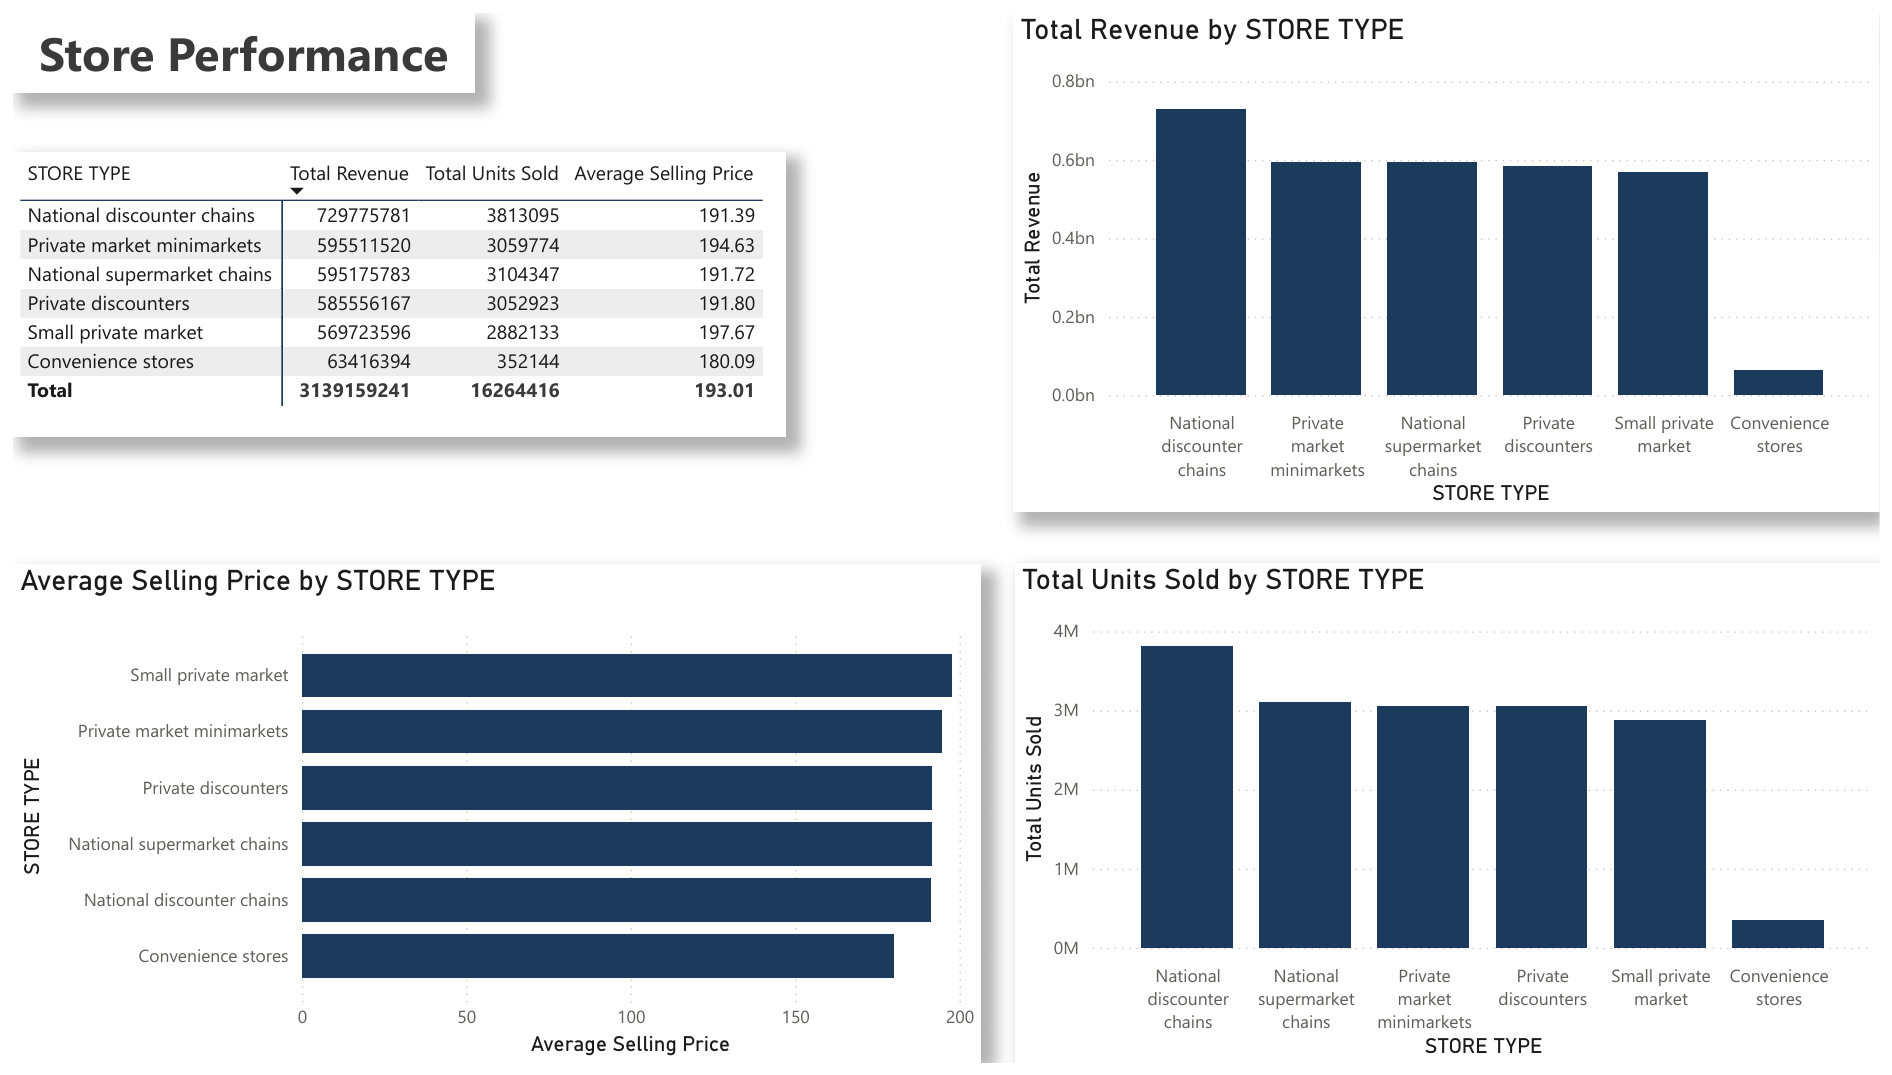

This screenshot's page, from the dashboard's own definition file:
{"tool":"powerbi","page":{"name":"Store Performance","canvas":[1280,720],"ordinal":4},"visuals":[{"type":"clusteredColumnChart","fields":{"Category":["dim_store.STORE TYPE"],"Y":["MeasuresX.Total Revenue"]},"box":[686,0,594,342],"z":0},{"type":"clusteredColumnChart","fields":{"Category":["dim_store.STORE TYPE"],"Y":["MeasuresX.Total Units Sold"]},"box":[686.7,376.7,594,344],"z":1000},{"type":"clusteredBarChart","fields":{"Category":["dim_store.STORE TYPE"],"Y":["MeasuresX.Average Selling Price"]},"box":[0,378.3,664,342],"z":2000},{"type":"pivotTable","fields":{"Rows":["dim_store.STORE TYPE"],"Values":["MeasuresX.Total Revenue","MeasuresX.Total Units Sold","MeasuresX.Average Selling Price"]},"box":[0,95,530,196],"z":3000},{"type":"textbox","box":[0,0,316.7,55],"z":4000}]}

Visuals, with their boxes in screenshot pixels (x1, y1, x2, y2), scaled from the page's 1280x720 canvas onto the 1892x1075 screenshot:
clusteredColumnChart - dim_store.STORE TYPE x MeasuresX.Total Revenue: region(1014, 0, 1891, 511)
clusteredColumnChart - dim_store.STORE TYPE x MeasuresX.Total Units Sold: region(1015, 562, 1891, 1074)
clusteredBarChart - dim_store.STORE TYPE x MeasuresX.Average Selling Price: region(0, 565, 981, 1074)
pivotTable - dim_store.STORE TYPE x MeasuresX.Total Revenue: region(0, 142, 783, 434)
textbox: region(0, 0, 468, 82)
